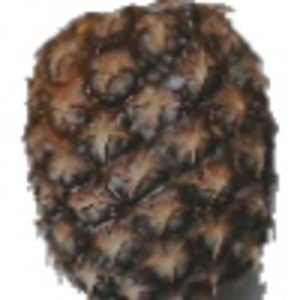abacaxi: (16, 3, 283, 295)
